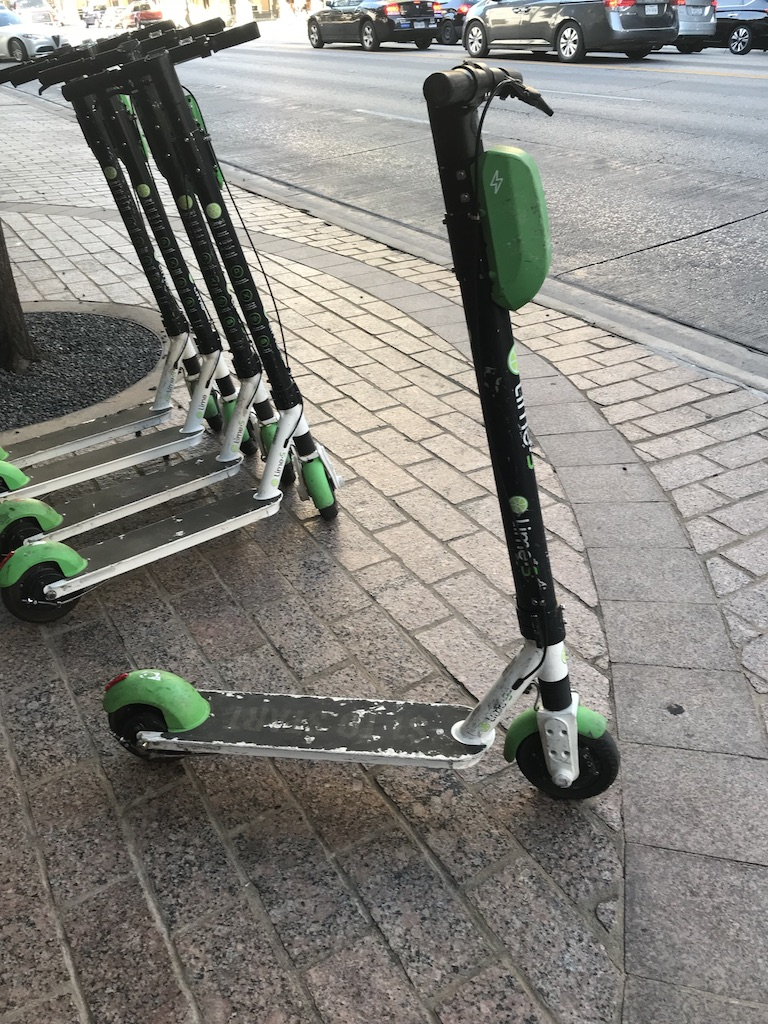scooter: (104, 62, 628, 800), (2, 21, 343, 603), (3, 75, 281, 563), (2, 84, 239, 501), (3, 95, 200, 469), (40, 19, 226, 87), (11, 20, 179, 89)
